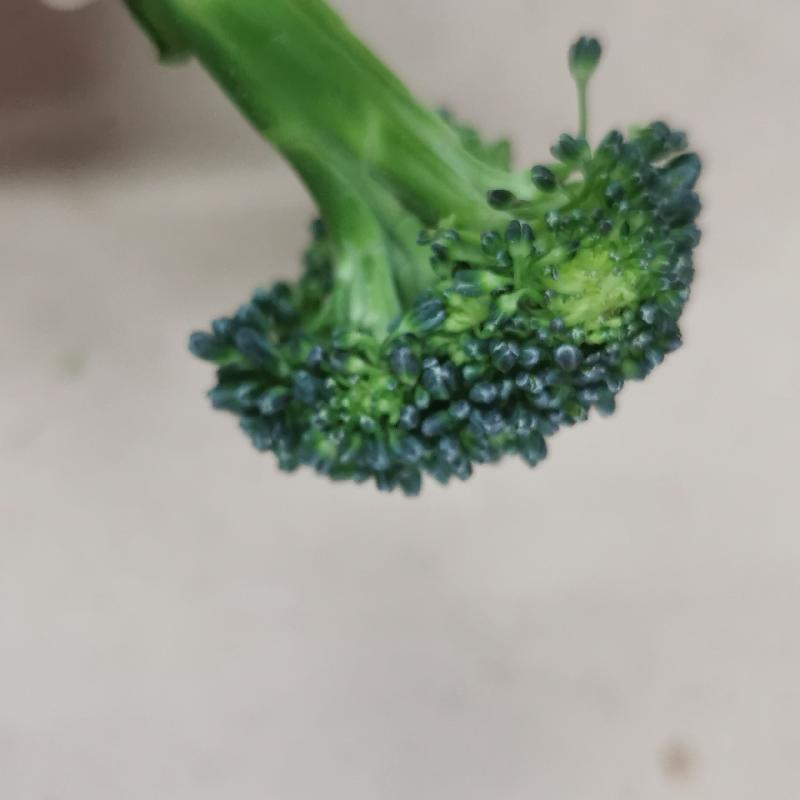broccoli: (109, 2, 711, 498)
